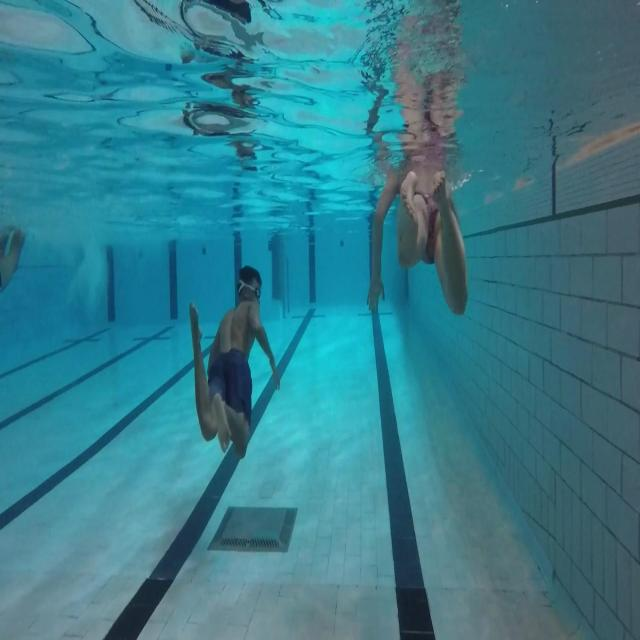human: (366, 2, 468, 316), (188, 264, 280, 460)
